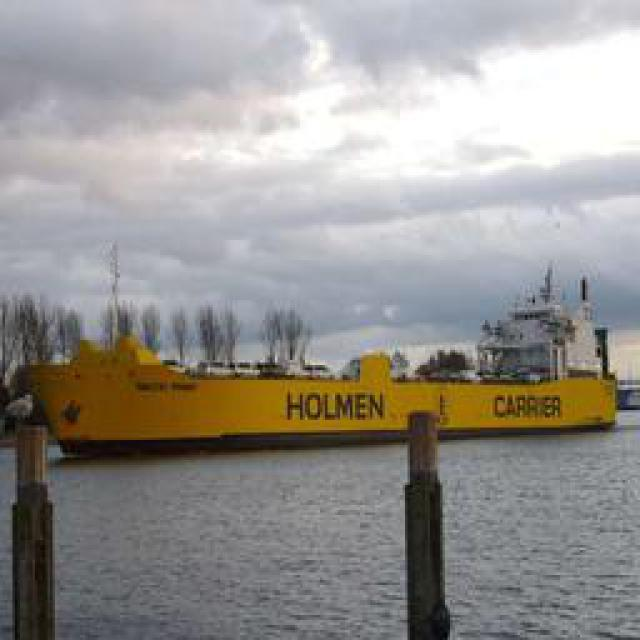Ship: (20, 316, 625, 456)
